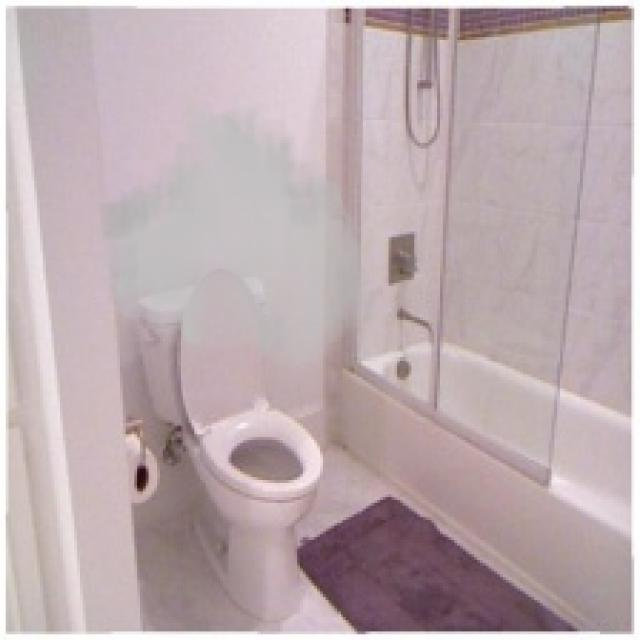smoke: (91, 92, 372, 374)
